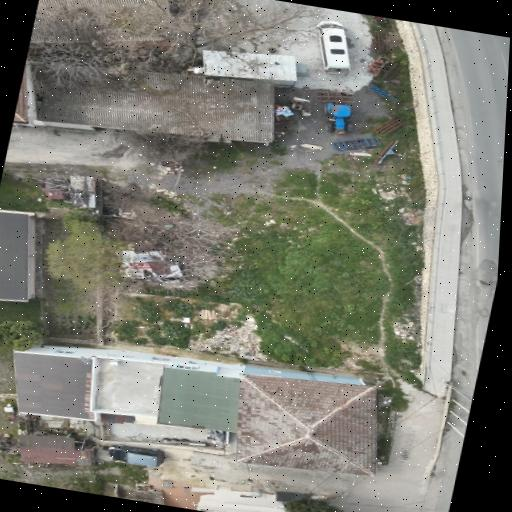car: (317, 21, 349, 74), (108, 445, 163, 467)
tractors: (324, 102, 351, 133)
